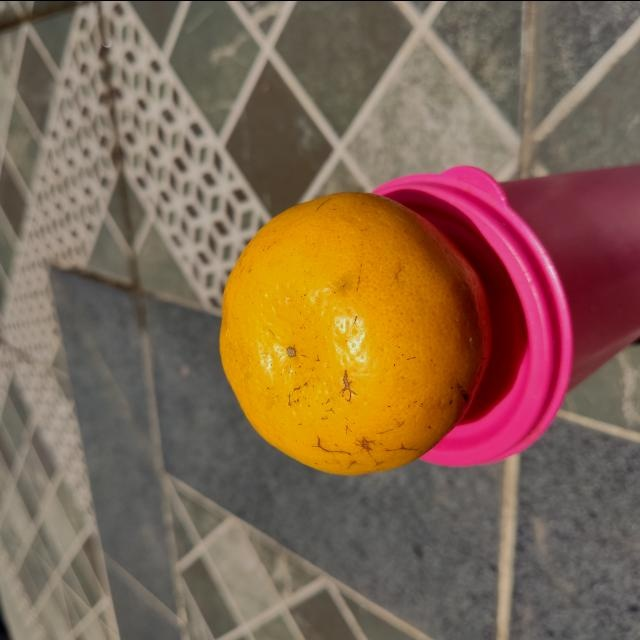agrume: (215, 191, 499, 477)
